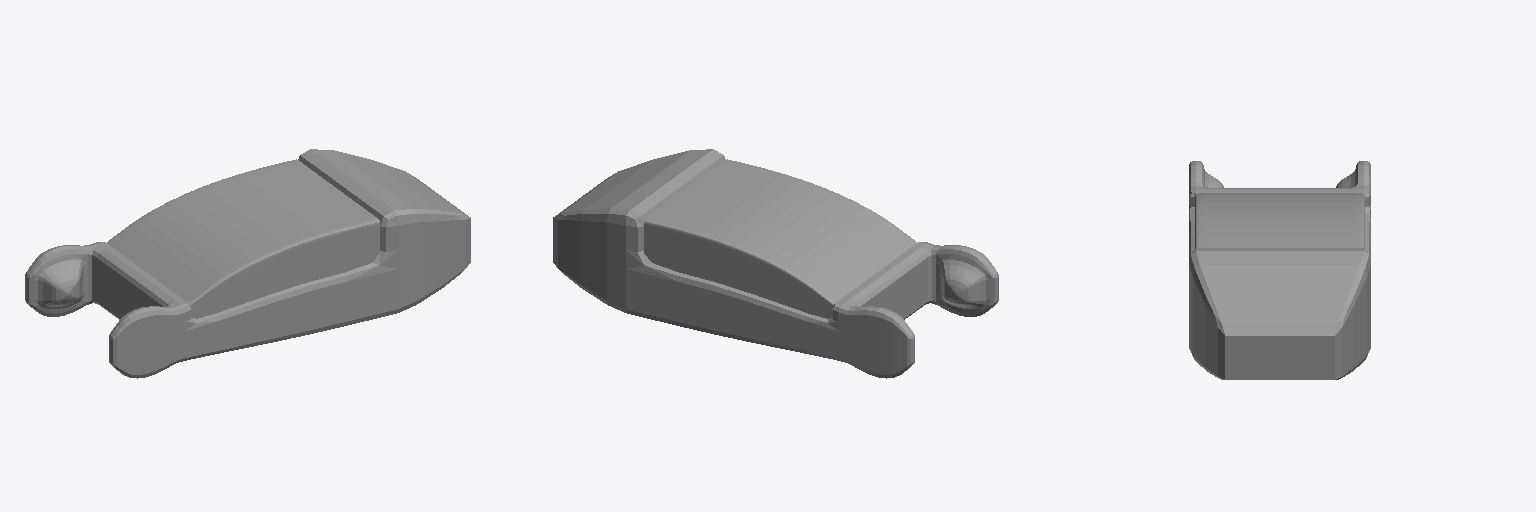
The model's file is raumschiff.obj.
3 views of the same model, side by side, from view 1: azimuth 30°, elevation 25°; view 2: azimuth 150°, elevation 25°; view 3: azimuth 270°, elevation 25° (orthographic).
Parts seen in each view (by area): view 1: Plane, Plane.002; view 2: Plane, Plane.002; view 3: Plane, Plane.002.
Boxes of the visible parts, box(x1,y1,x2,y2) form: Plane: box(25, 149, 470, 378); Plane.002: box(107, 159, 379, 318); Plane: box(553, 149, 998, 378); Plane.002: box(644, 159, 916, 318); Plane: box(1189, 161, 1370, 379); Plane.002: box(1195, 193, 1364, 248).
Bounding box in the file's own units: 9.81 × 2.62 × 4.12.